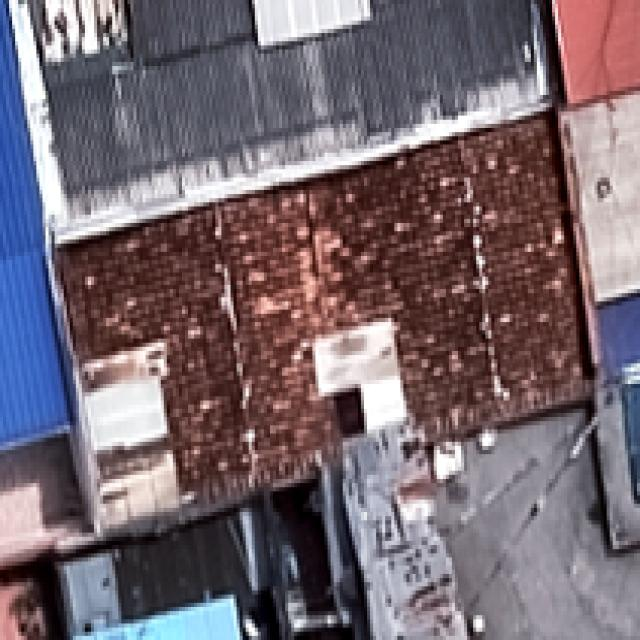Batiment: (59, 120, 584, 505), (559, 90, 640, 305), (553, 0, 640, 105)
